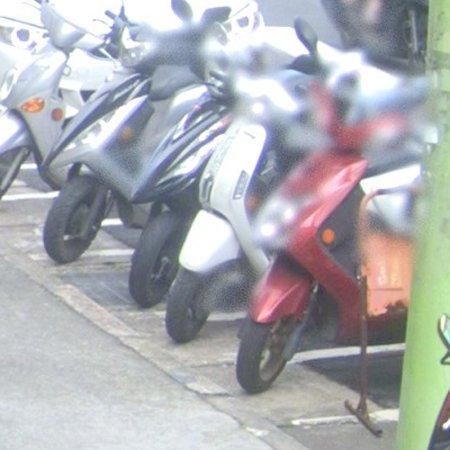motorcycles: (235, 20, 411, 394), (42, 13, 273, 264), (165, 57, 335, 345), (131, 66, 261, 310), (0, 0, 127, 200)
